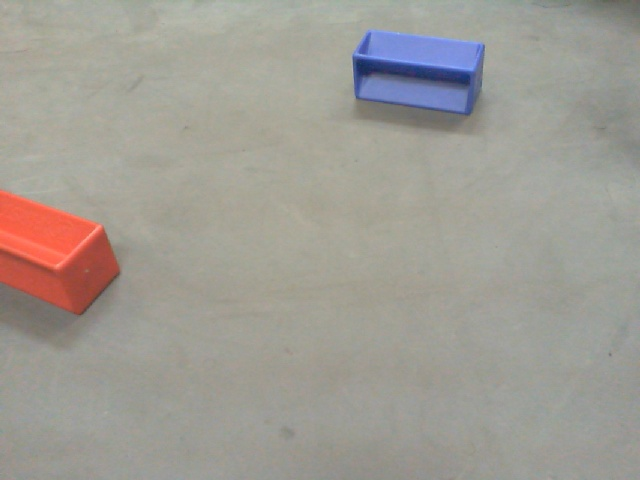BlueSample: (352, 27, 484, 122)
RedSample: (1, 186, 124, 323)
